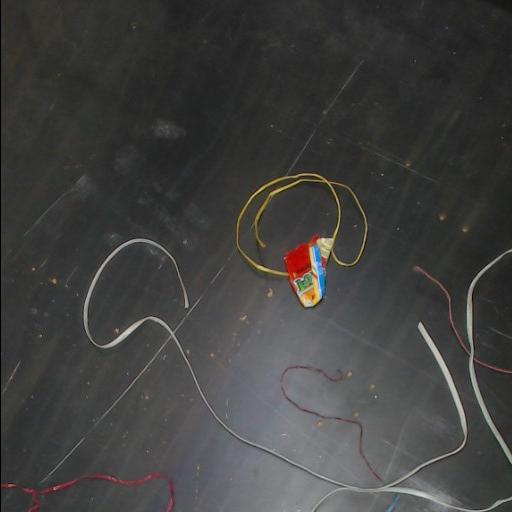conveyor belt: (1, 0, 512, 511), (474, 255, 511, 369), (37, 479, 167, 511), (475, 364, 512, 453), (318, 492, 459, 511)
packet: (284, 235, 332, 307)
thread: (82, 238, 512, 511), (414, 246, 512, 466), (235, 172, 367, 277), (280, 365, 381, 480), (1, 472, 174, 511)
